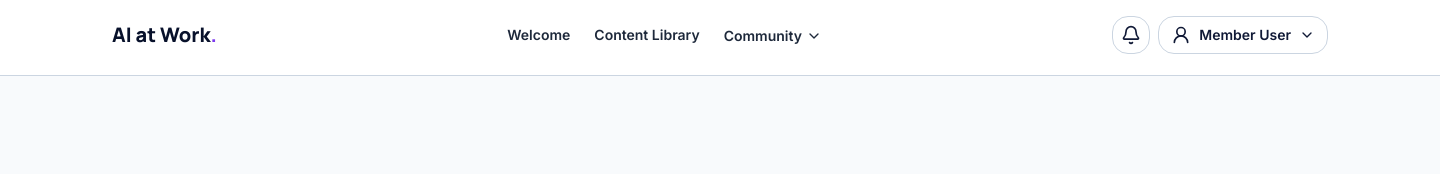
Test case: shared Member Experience navigation › shows the notification bell and keeps menus keyboard dismissible
This screenshot has width=1440, height=174.
Check: the button named "Notifications" is shown, box [1112, 16, 1150, 54]
Click the button "Community". click: x=773, y=36
box: [724, 26, 822, 46]
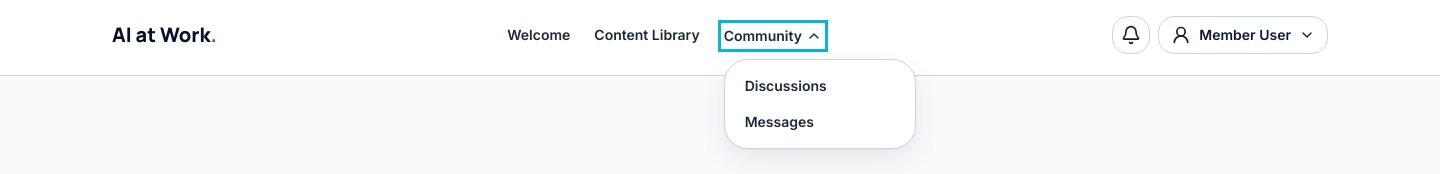
Press Escape
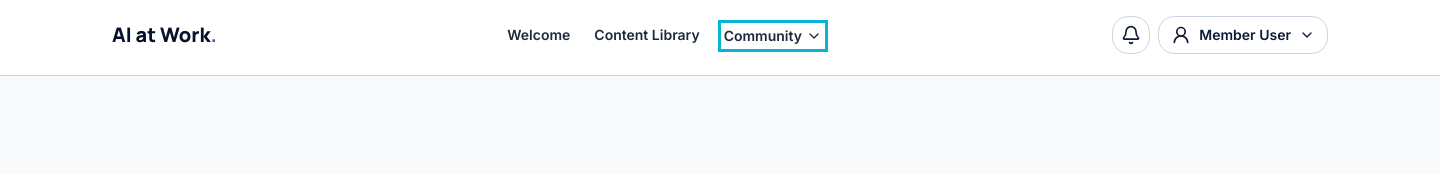
Check: the menu item "Discussions" is gone
